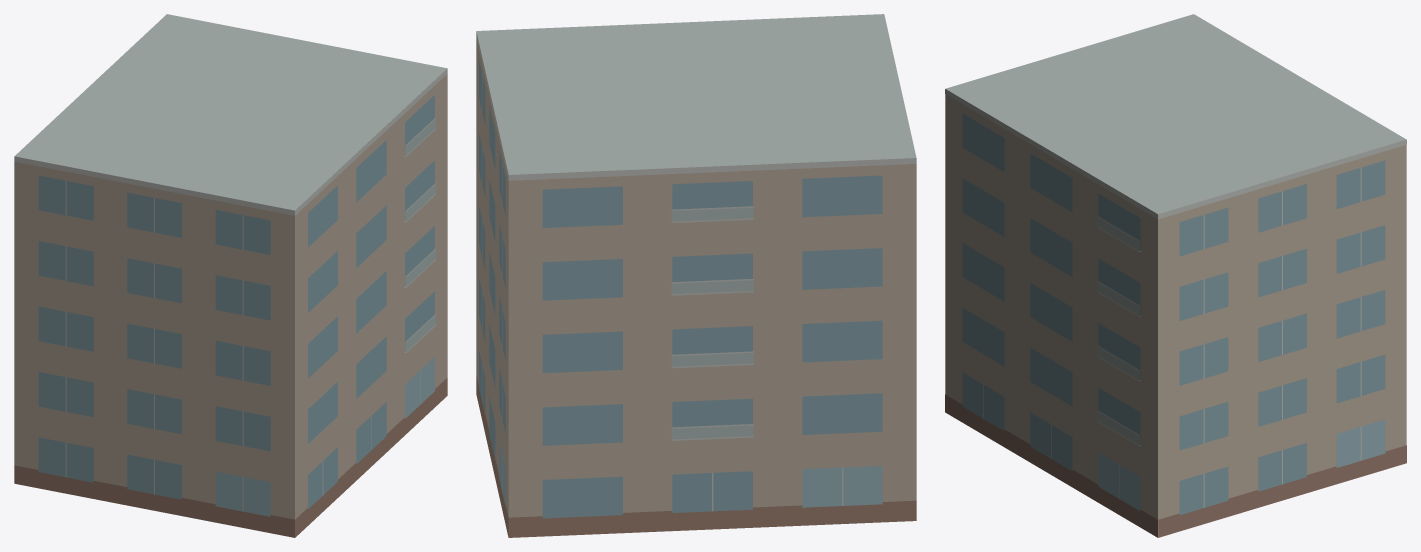
File: survey-upis-32954037.glb
The picture shows the model from 3 angles, left to right: view 1: azimuth 30°, elevation 25°; view 2: azimuth 150°, elevation 25°; view 3: azimuth 270°, elevation 25°; orthographic projection. The views are drawn at different scales.
Visible parts, largest first — view 1: survey-upis-32954037.tmp; view 2: survey-upis-32954037.tmp; view 3: survey-upis-32954037.tmp.
Boxes of the visible parts, bbox=[...] form: survey-upis-32954037.tmp: bbox=[14, 14, 447, 537]; survey-upis-32954037.tmp: bbox=[476, 14, 916, 537]; survey-upis-32954037.tmp: bbox=[945, 14, 1406, 537].
Bounding box in the file's own units: 20.25 × 15.25 × 19.72.
